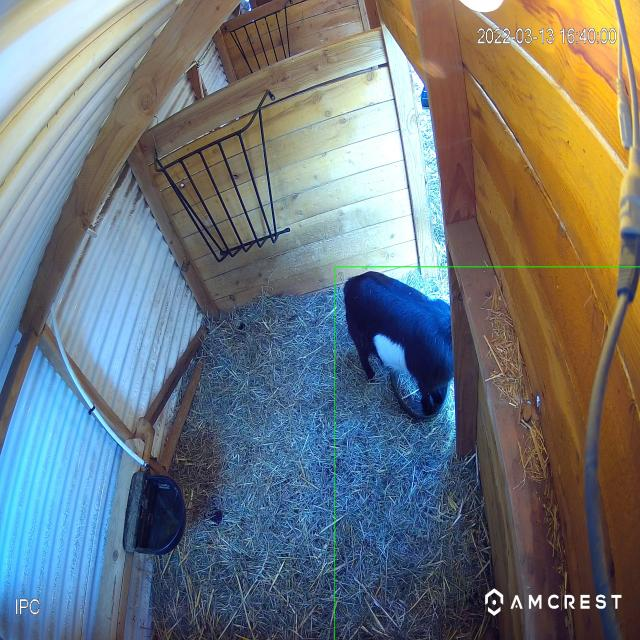goat: (334, 262, 458, 450)
